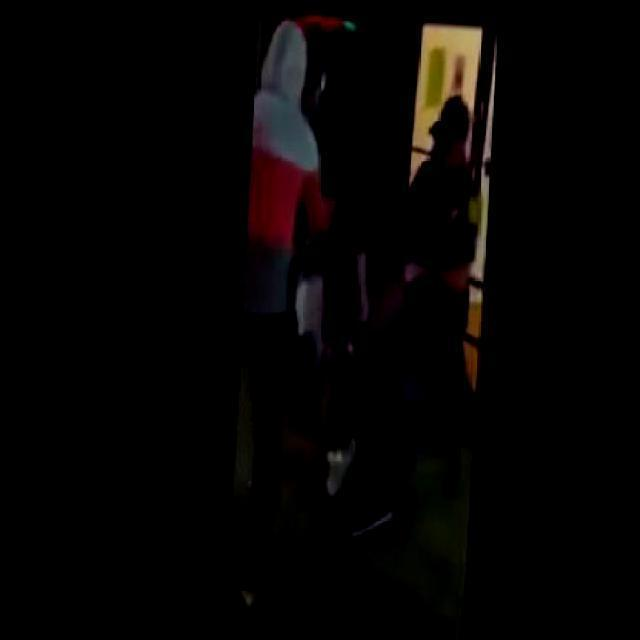fight: (342, 82, 489, 372)
non-fight: (230, 25, 350, 542)
